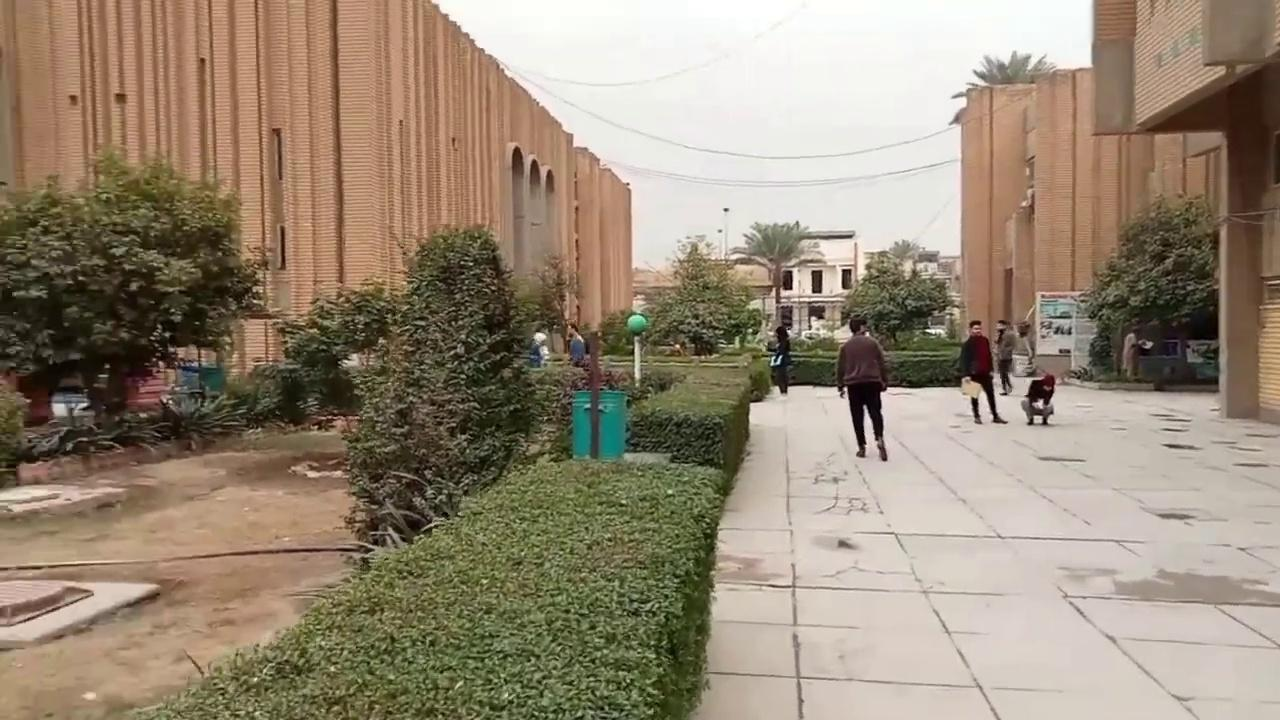person: (836, 314, 888, 461), (957, 319, 1008, 424), (994, 319, 1016, 395), (769, 325, 791, 394), (1121, 325, 1142, 379), (566, 321, 585, 366), (528, 329, 548, 367)
tree: (0, 144, 268, 434), (339, 222, 537, 557), (1078, 188, 1219, 380), (271, 275, 398, 421), (641, 236, 763, 357), (839, 247, 953, 346), (728, 219, 815, 332), (531, 252, 581, 355), (969, 49, 1056, 86), (598, 308, 635, 356)
